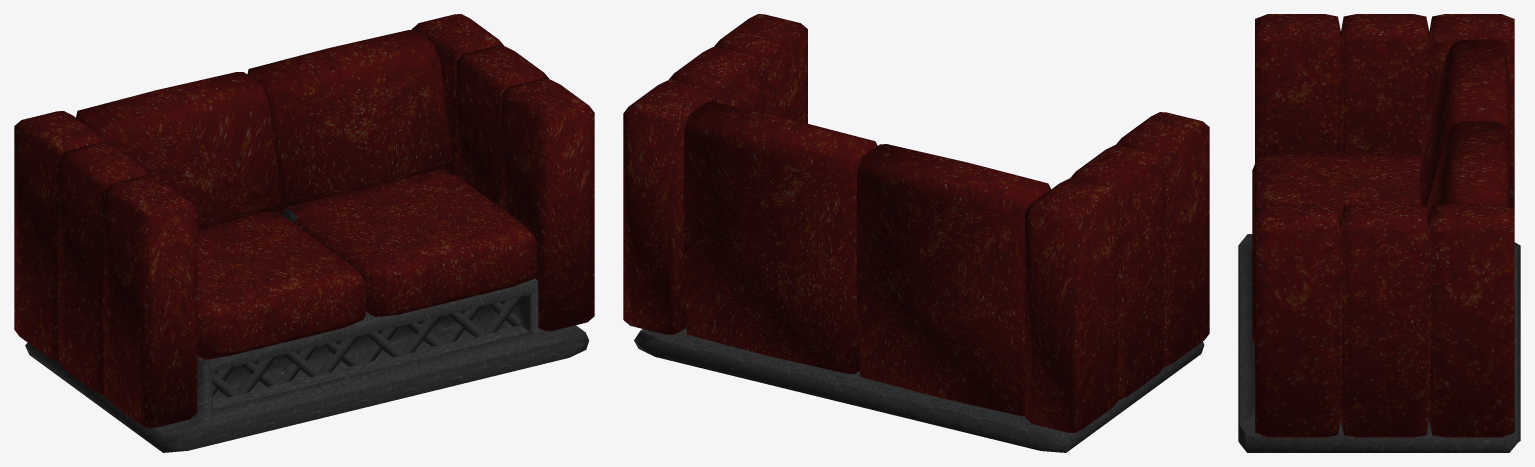
The model's file is Sofa_low.fbx.
The picture shows the model from 3 angles, left to right: view 1: azimuth 30°, elevation 25°; view 2: azimuth 150°, elevation 25°; view 3: azimuth 270°, elevation 25°; orthographic projection. The views are drawn at different scales.
Visible parts, largest first — view 1: Sofa; view 2: Sofa; view 3: Sofa.
Boxes of the visible parts, x1,y1,x2,y2 form: Sofa: (14, 14, 594, 452); Sofa: (623, 14, 1209, 452); Sofa: (1238, 14, 1520, 452).
Size of the model in its own units: 141 by 71.49 by 77.58.
Materials: 1 (1 with a texture image).
